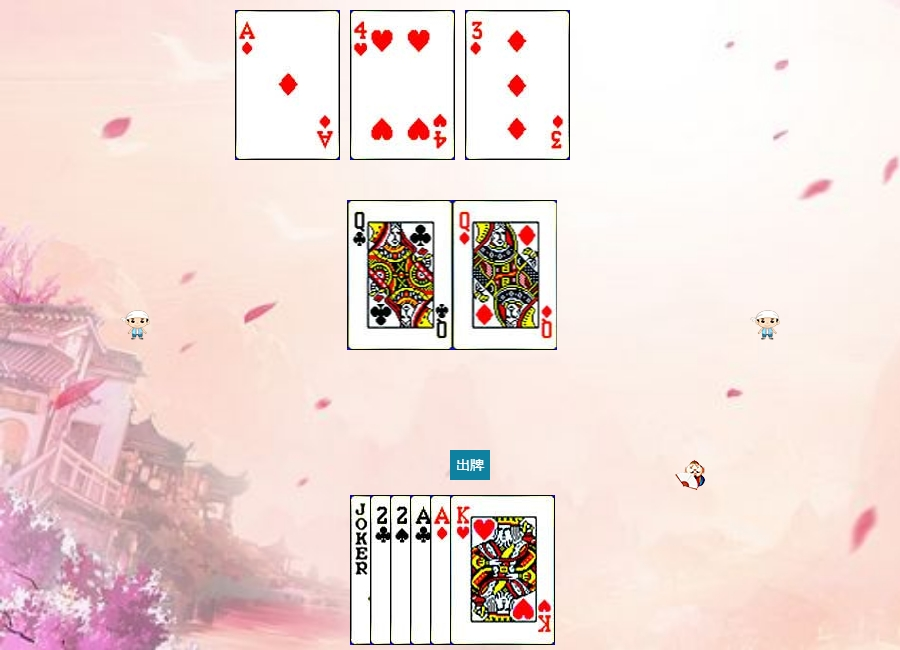12~1: (453, 200, 558, 350)
12~2: (348, 200, 453, 350)
13~3: (450, 495, 555, 645)
14~1: (235, 10, 340, 160), (430, 495, 535, 645)
14~2: (410, 495, 515, 645)
15~2: (370, 495, 475, 645)
15~4: (390, 495, 495, 645)
17~3: (350, 495, 455, 645)
3~1: (465, 10, 570, 160)
4~3: (350, 10, 455, 160)
